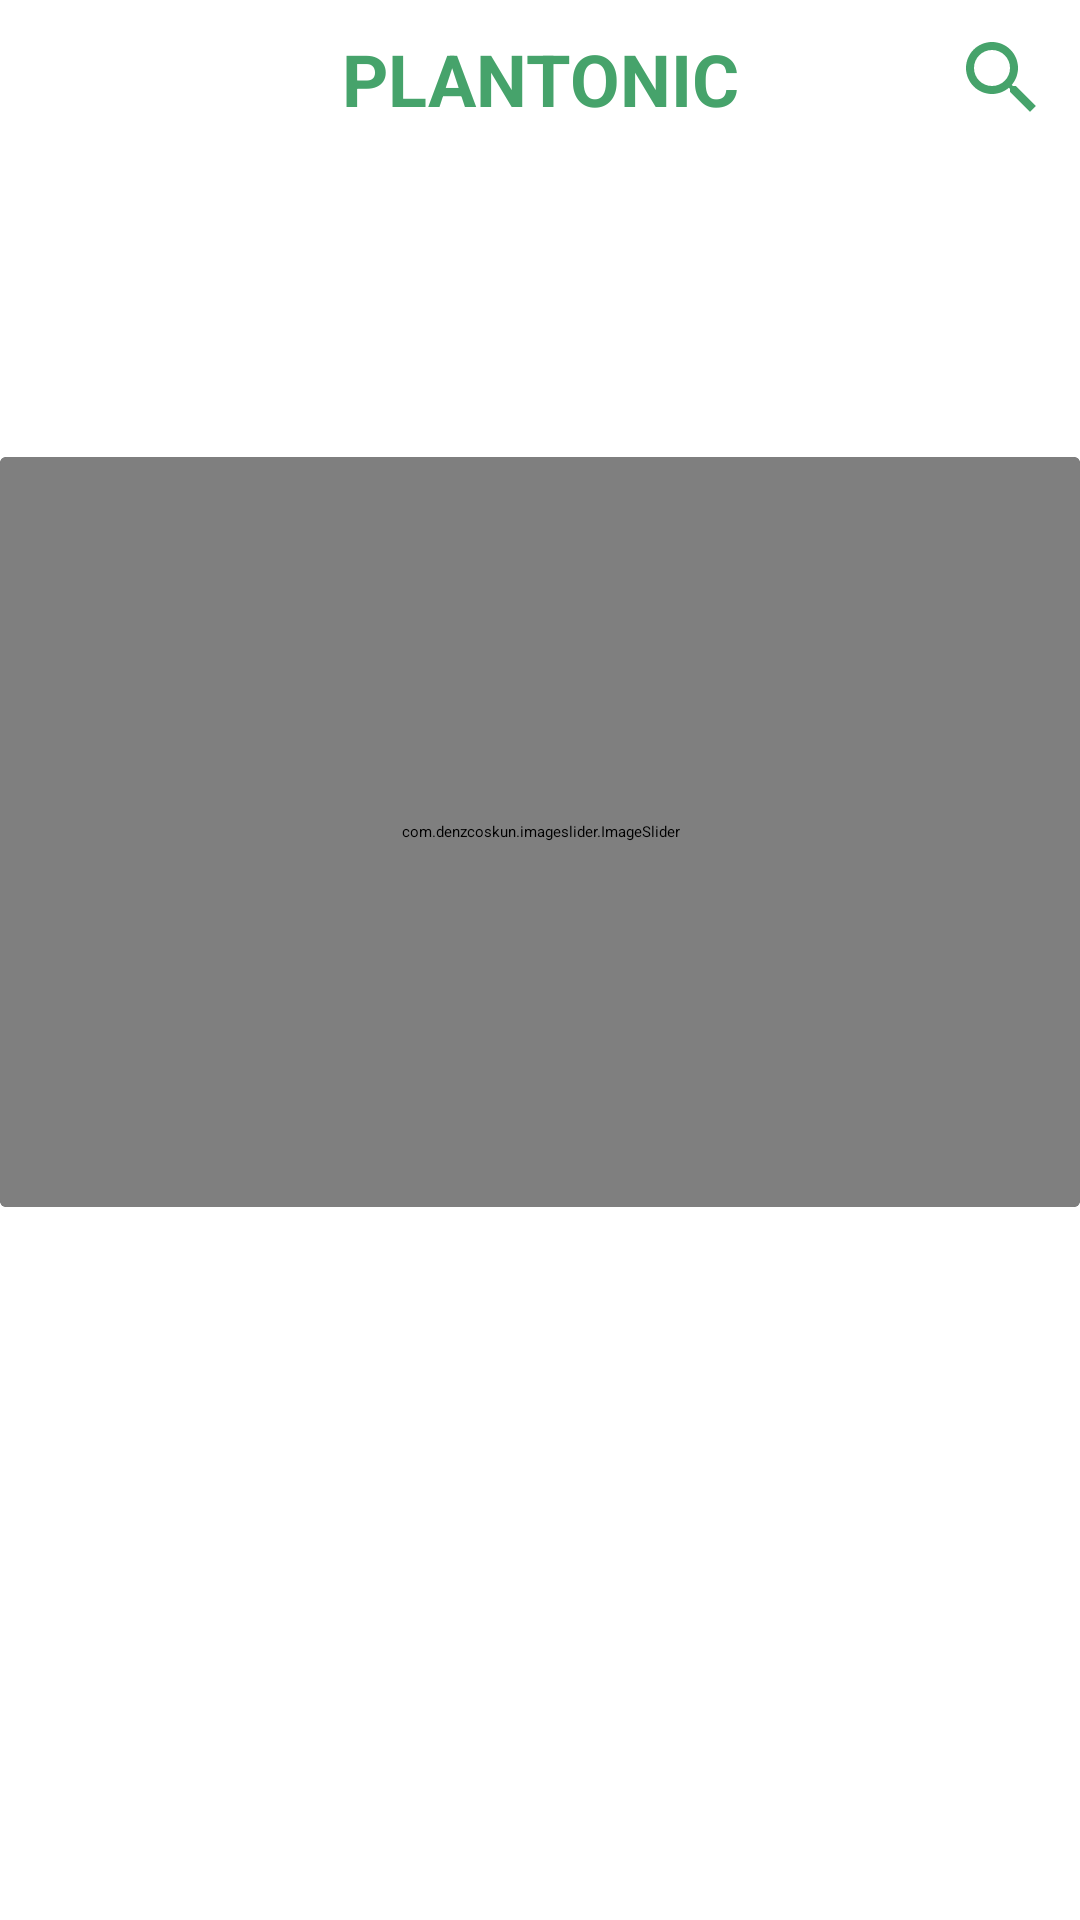

Icons on this 1080×1920 Android screen, each with the point to tap as point (x, y):
search: point (1001, 77)
